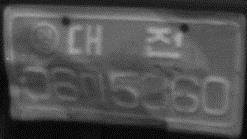0: (200, 74, 230, 116), (19, 64, 52, 101)
5: (108, 69, 139, 109)
6: (169, 73, 200, 114), (51, 65, 81, 104)
8: (138, 71, 170, 112)
대전_D: (65, 19, 184, 61)
마: (80, 68, 108, 103)
영: (29, 21, 62, 55)
